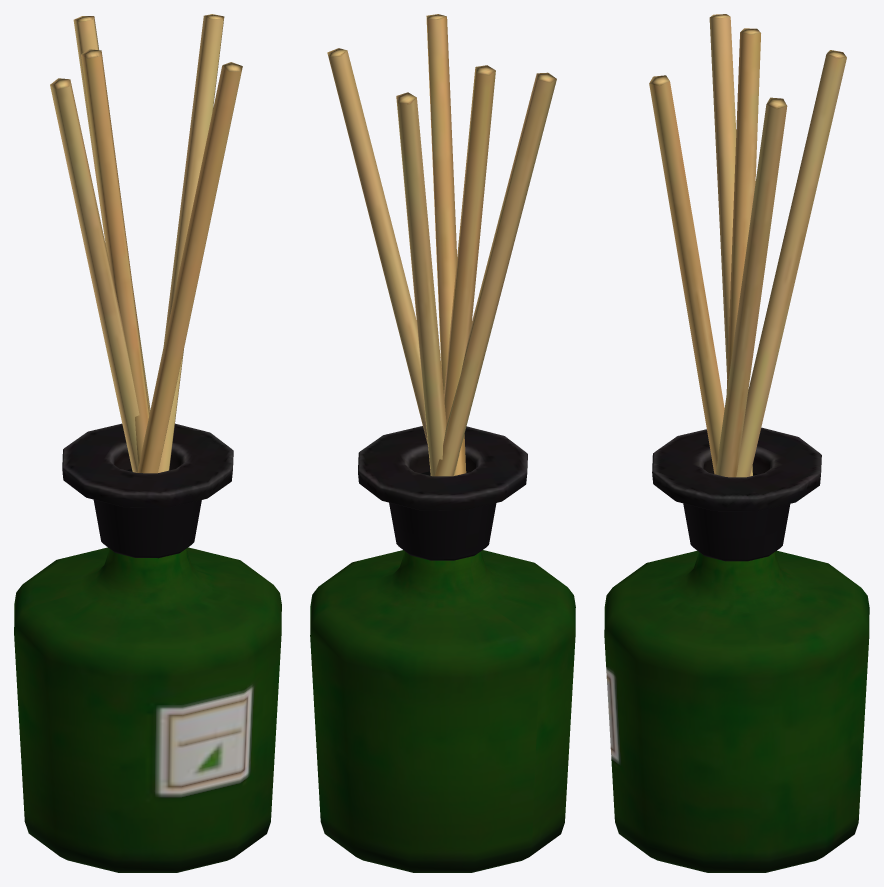
3 renders of one model, left to right at view 1: azimuth 30°, elevation 25°; view 2: azimuth 150°, elevation 25°; view 3: azimuth 270°, elevation 25°, orthographic.
Bounding box in the file's own units: 2.58 × 8.3 × 2.58.
Materials: 3 (3 with a texture image).
